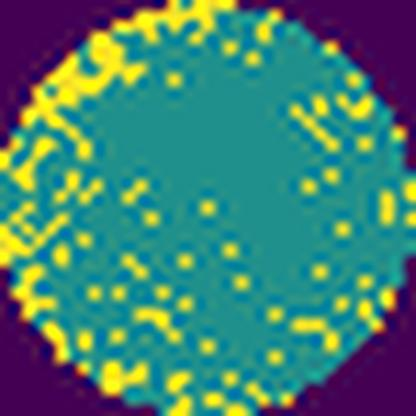Edge-Loc: (21, 0, 233, 161), (0, 200, 72, 273), (3, 262, 60, 324), (100, 343, 149, 403)
